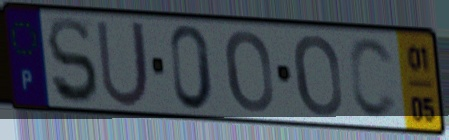0: (167, 23, 216, 114)
C: (346, 35, 401, 124)
O: (222, 27, 276, 115), (291, 32, 345, 119)
S: (44, 14, 102, 107)
U: (93, 17, 153, 111)
